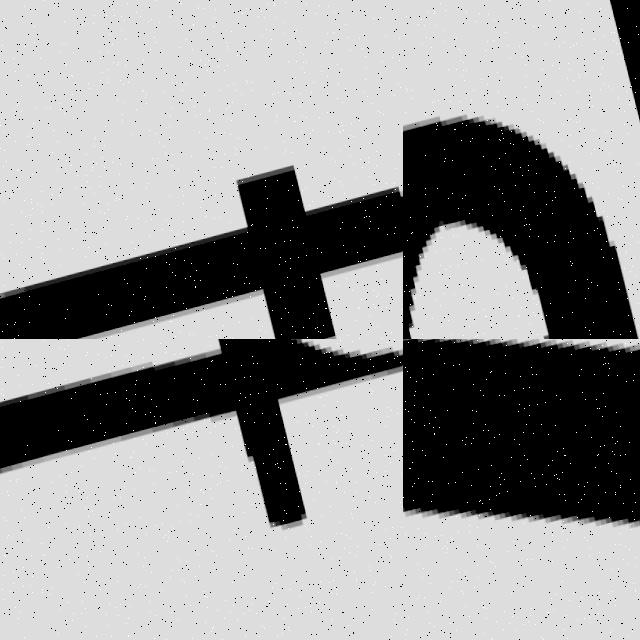L: (403, 339, 640, 640)
S: (403, 11, 640, 339)
T: (0, 339, 403, 640), (0, 124, 403, 339)
